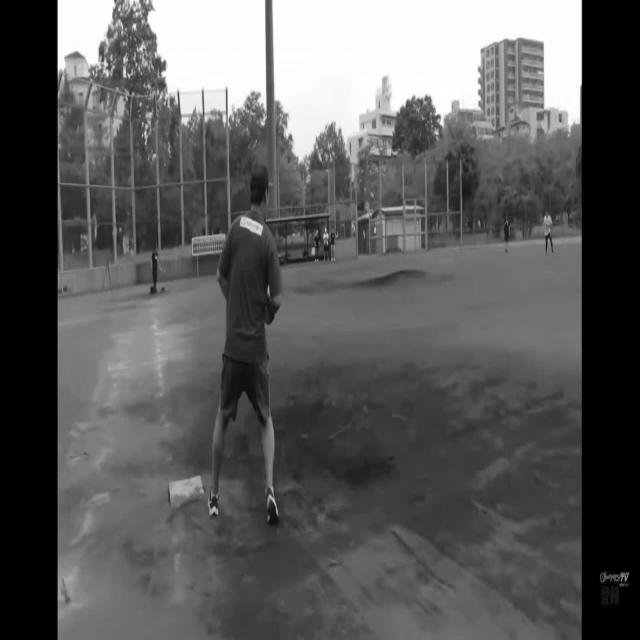base: (169, 474, 203, 509)
baseball_glove: (264, 294, 278, 325)
shoe: (266, 491, 282, 529), (207, 488, 221, 520)
